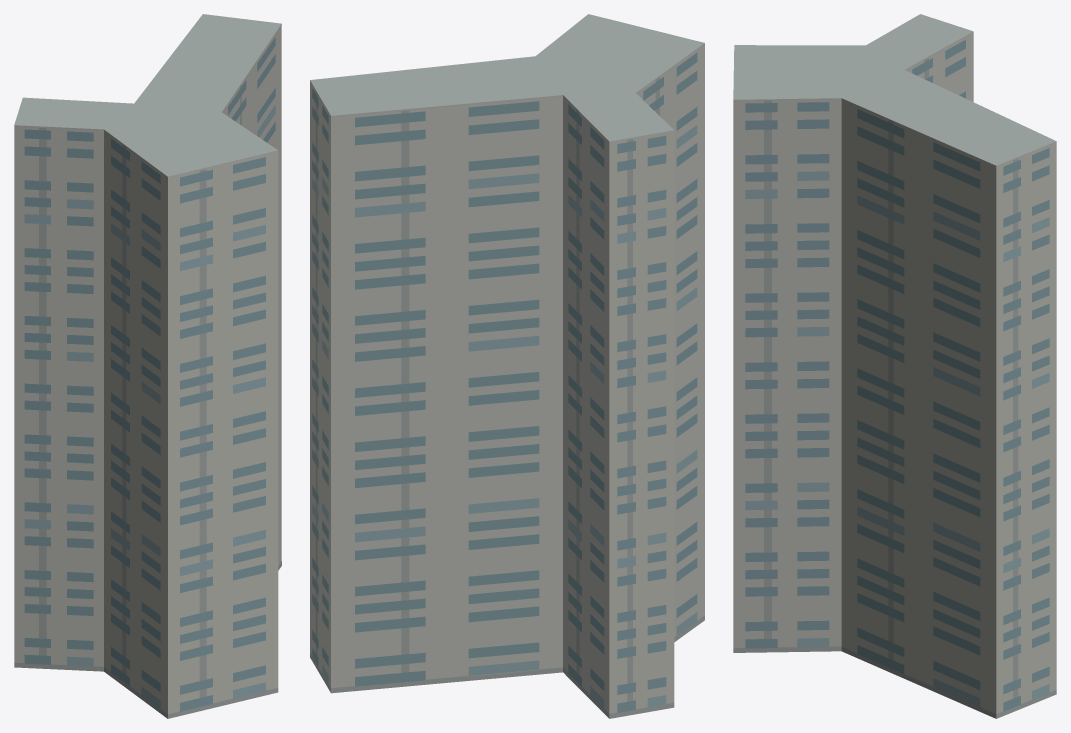
File: residential-16f415ff-800b-4681-aa42-ebc914f1f876.glb
3 renders of one model, left to right at view 1: azimuth 30°, elevation 25°; view 2: azimuth 150°, elevation 25°; view 3: azimuth 270°, elevation 25°, orthographic. The views are drawn at different scales.
Parts seen in each view (by area): view 1: residential-16f415ff-800b-4681-aa42-ebc914f1f876.tmp; view 2: residential-16f415ff-800b-4681-aa42-ebc914f1f876.tmp; view 3: residential-16f415ff-800b-4681-aa42-ebc914f1f876.tmp.
Part boxes in pixels (left/top/right/bottom): residential-16f415ff-800b-4681-aa42-ebc914f1f876.tmp: left=14, top=14, right=281, bottom=718; residential-16f415ff-800b-4681-aa42-ebc914f1f876.tmp: left=310, top=14, right=704, bottom=718; residential-16f415ff-800b-4681-aa42-ebc914f1f876.tmp: left=733, top=14, right=1056, bottom=718.
Size of the model in its own units: 54.74 by 93 by 49.28.
